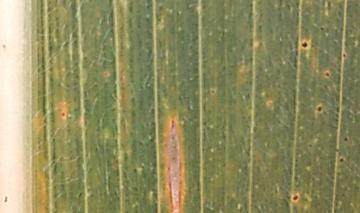tarspot: (60, 110, 66, 117), (302, 41, 308, 48), (317, 105, 323, 112), (324, 71, 330, 78), (292, 195, 299, 201), (343, 136, 349, 142), (319, 26, 325, 32), (342, 52, 347, 58), (339, 157, 344, 163), (211, 89, 215, 95)
